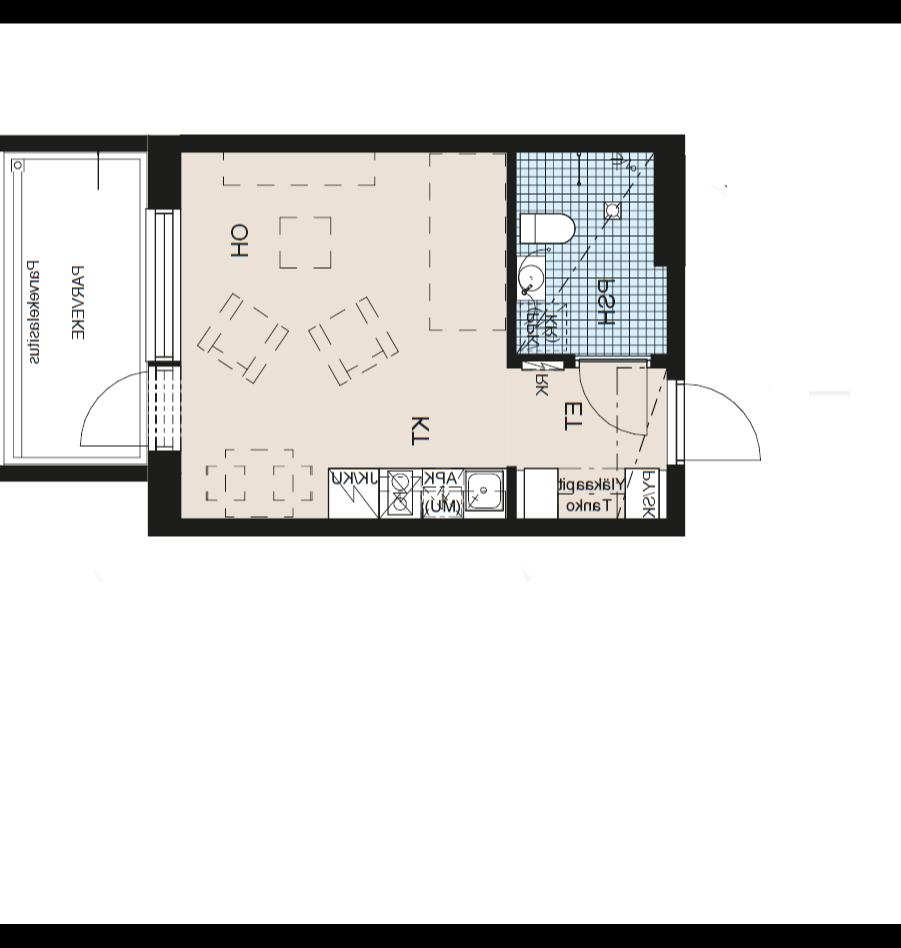bathroom: (512, 151, 670, 360)
door: (667, 379, 762, 470), (74, 364, 166, 452), (574, 352, 656, 442)
perimeter: (146, 133, 686, 538)
window: (142, 200, 188, 366)
